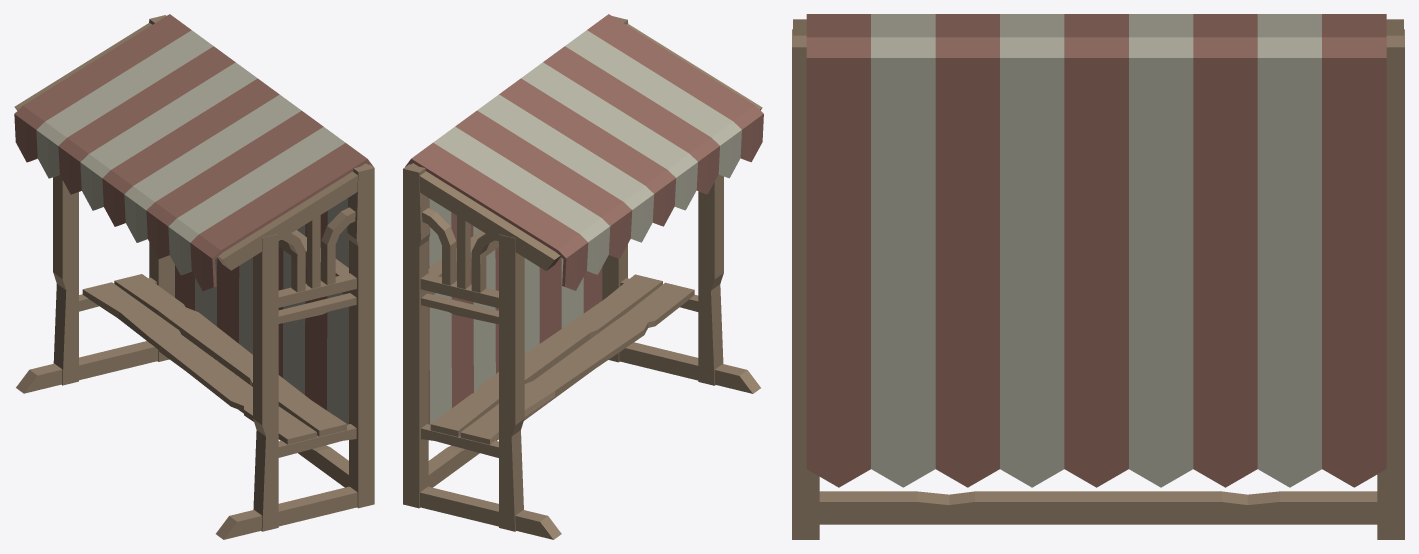
Rendered from market_stand.glb.
3 renders of one model, left to right at view 1: azimuth 30°, elevation 25°; view 2: azimuth 150°, elevation 25°; view 3: azimuth 270°, elevation 25°, orthographic. The views are drawn at different scales.
Parts seen in each view (by area): view 1: merged; view 2: merged; view 3: merged.
Boxes of the visible parts, left/top/right/bottom form: merged: left=14, top=14, right=374, bottom=539; merged: left=403, top=14, right=763, bottom=539; merged: left=792, top=14, right=1404, bottom=539.
Bounding box in the file's own units: 1.09 × 2.19 × 2.42.
